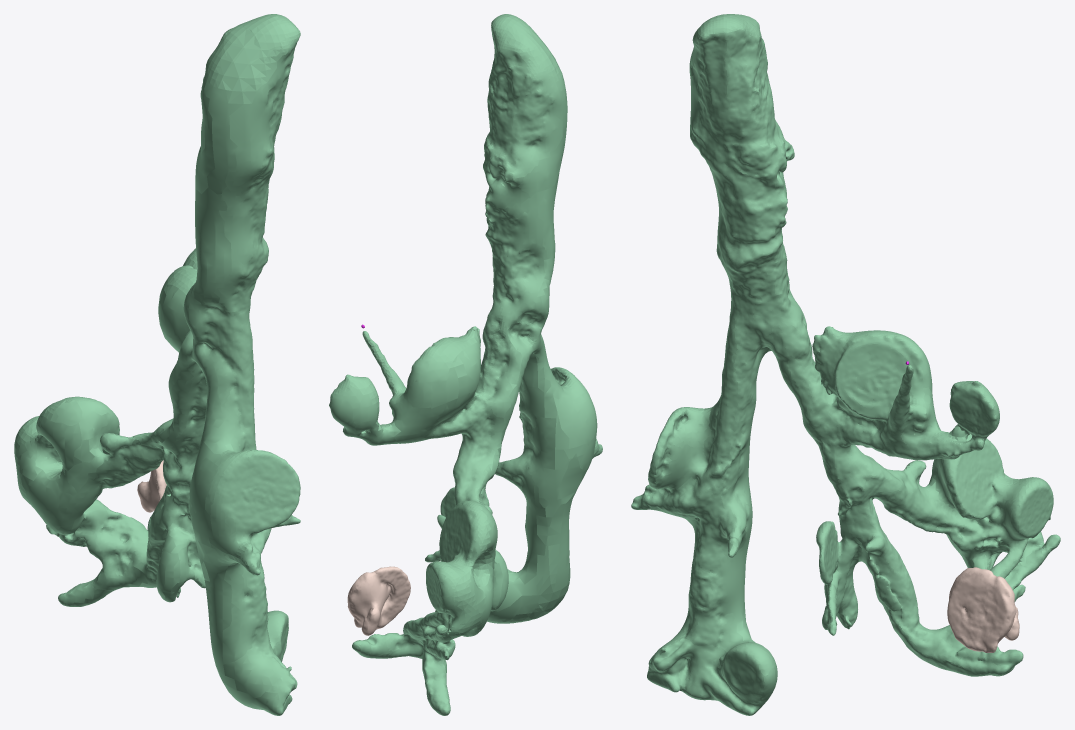
3 views of the same model, side by side, from view 1: azimuth 30°, elevation 25°; view 2: azimuth 150°, elevation 25°; view 3: azimuth 270°, elevation 25° (orthographic). The views are drawn at different scales.
Parts seen in each view (by area): view 1: split_parent_0, Object_2.023; view 2: split_parent_0, Object_2.023; view 3: split_parent_0, Object_2.023.
Part boxes in pixels (box(x1,y1,x2,y2)): split_parent_0: box(14, 14, 300, 715); Object_2.023: box(137, 460, 166, 512); split_parent_0: box(329, 14, 602, 715); Object_2.023: box(347, 566, 410, 635); split_parent_0: box(631, 14, 1060, 715); Object_2.023: box(947, 567, 1019, 652).
Bounding box in the file's own units: 0.286 × 1 × 0.5619.
